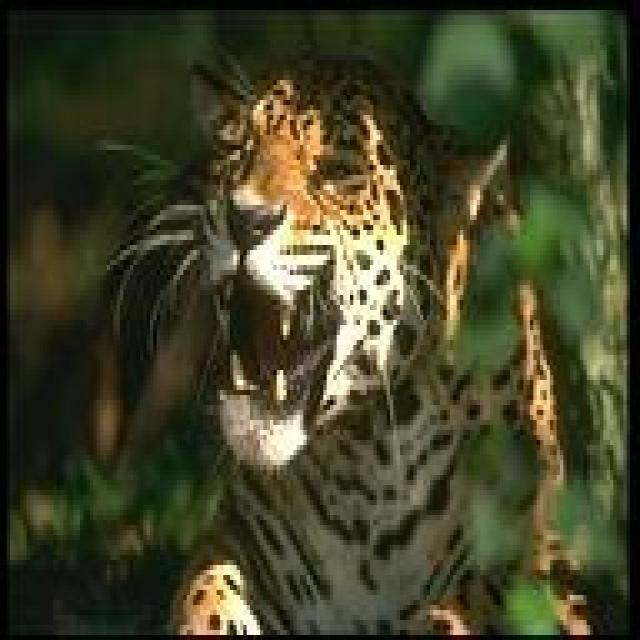Leopard: (103, 50, 570, 640)
